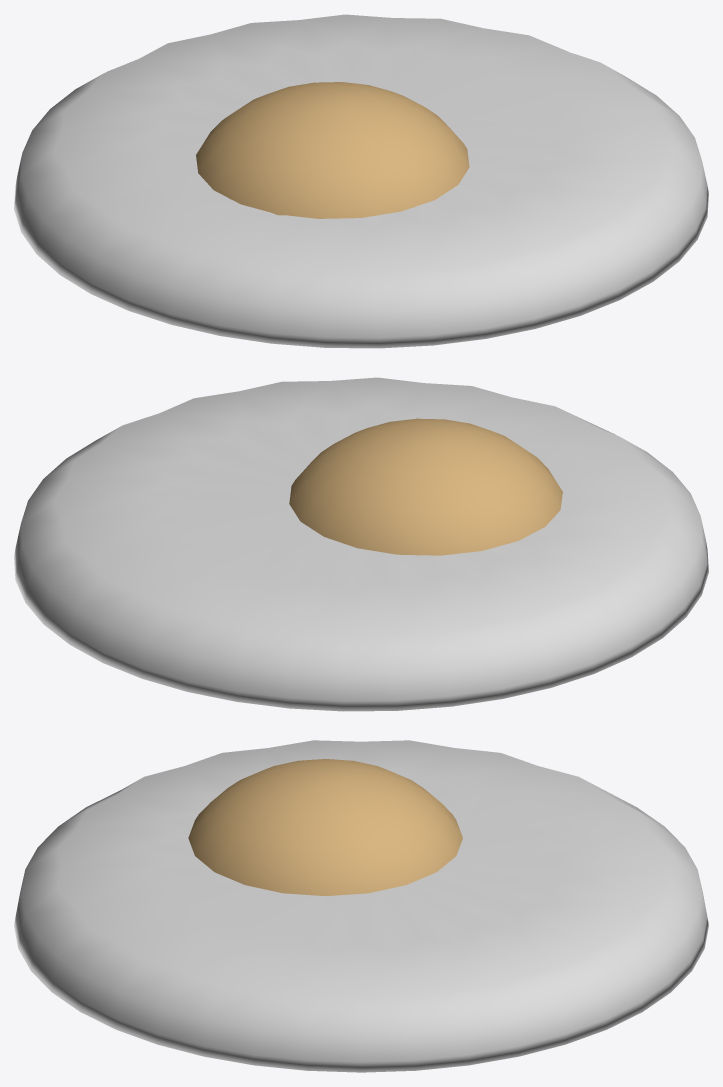
Rendered from EggCooked02.fbx.
3 views of the same model, one above another, from view 1: azimuth 30°, elevation 25°; view 2: azimuth 150°, elevation 25°; view 3: azimuth 270°, elevation 25° (orthographic).
Parts seen in each view (by area): view 1: pCylinder1, pSphere1; view 2: pCylinder1, pSphere1; view 3: pCylinder1, pSphere1.
Part boxes in pixels (box(x1,y1,x2,y2)): pCylinder1: box(14, 14, 708, 348); pSphere1: box(196, 82, 469, 218); pCylinder1: box(14, 377, 708, 711); pSphere1: box(289, 418, 562, 555); pCylinder1: box(14, 740, 708, 1072); pSphere1: box(188, 759, 462, 896).
Bounding box in the file's own units: 9.28 × 1.9 × 9.28.
